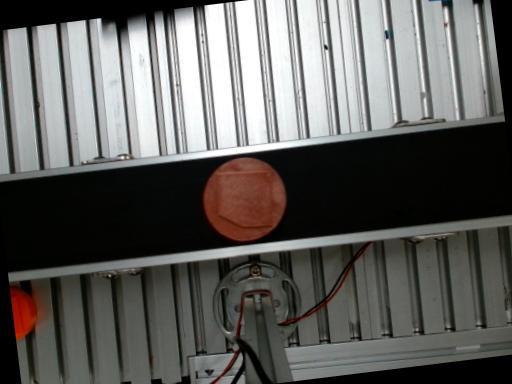Brown_Waper: (203, 157, 287, 241)
Not_Square: (216, 169, 274, 227)
